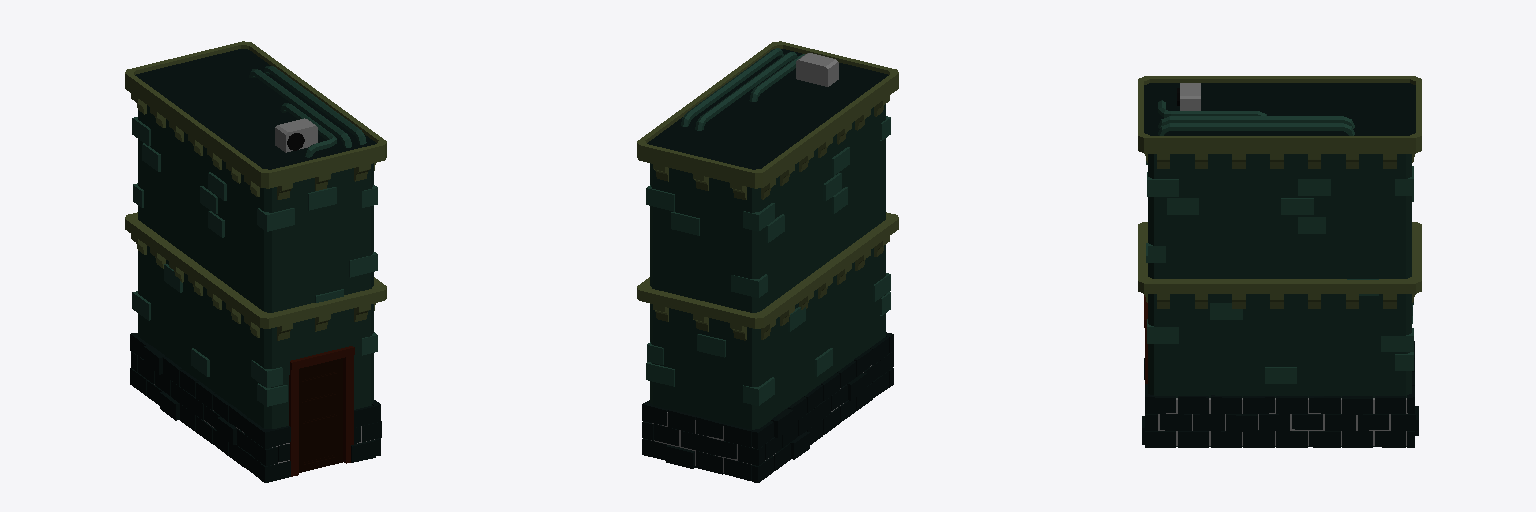
Rendered from 2Story_Slim_Mat.obj.
3 views of the same model, side by side, from view 1: azimuth 30°, elevation 25°; view 2: azimuth 150°, elevation 25°; view 3: azimuth 270°, elevation 25° (orthographic).
Parts seen in each view (by area): view 1: 2Story_Slim_Mat_Cube.033; view 2: 2Story_Slim_Mat_Cube.033; view 3: 2Story_Slim_Mat_Cube.033.
Part boxes in pixels (x1,y1,x2,y2): 2Story_Slim_Mat_Cube.033: (125, 41, 386, 482); 2Story_Slim_Mat_Cube.033: (637, 41, 898, 482); 2Story_Slim_Mat_Cube.033: (1138, 76, 1421, 447).
Size of the model in its own units: 1.12 by 2.76 by 2.15.